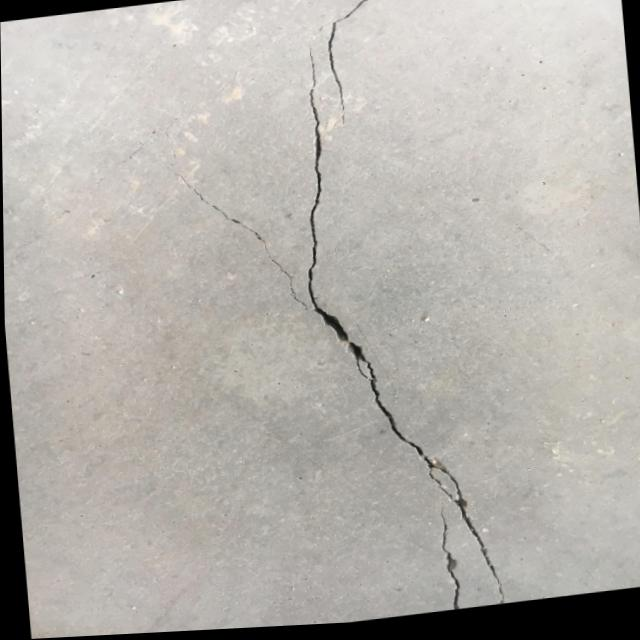Crack: (280, 0, 511, 629), (173, 165, 286, 295)
